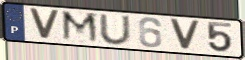5: (205, 21, 234, 54)
6: (137, 16, 163, 49)
M: (60, 9, 102, 46)
U: (98, 13, 134, 46)
V: (168, 17, 203, 52), (27, 7, 62, 41)
